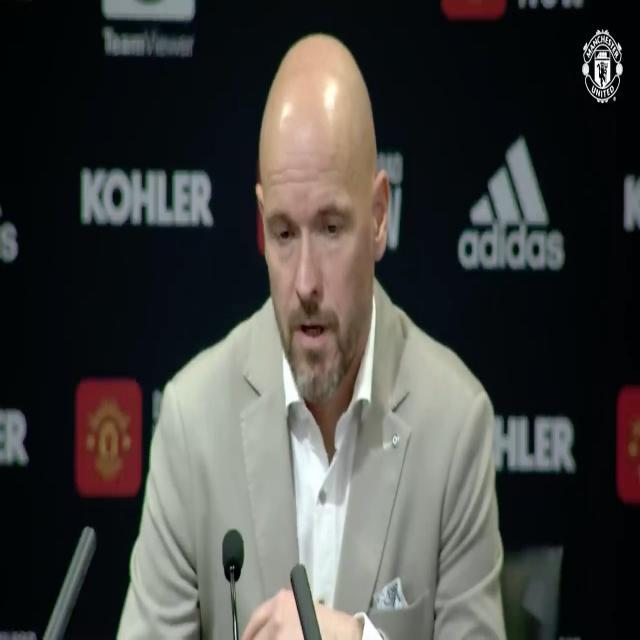Adidas: (457, 135, 564, 272)
Kohler: (80, 170, 212, 228)
TeamViewer: (103, 1, 194, 56)
